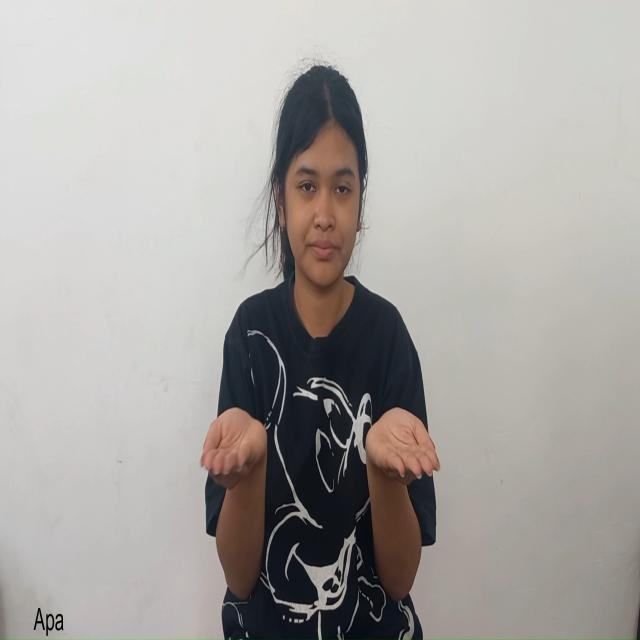Apa -BISINDO-: (189, 386, 439, 596)
